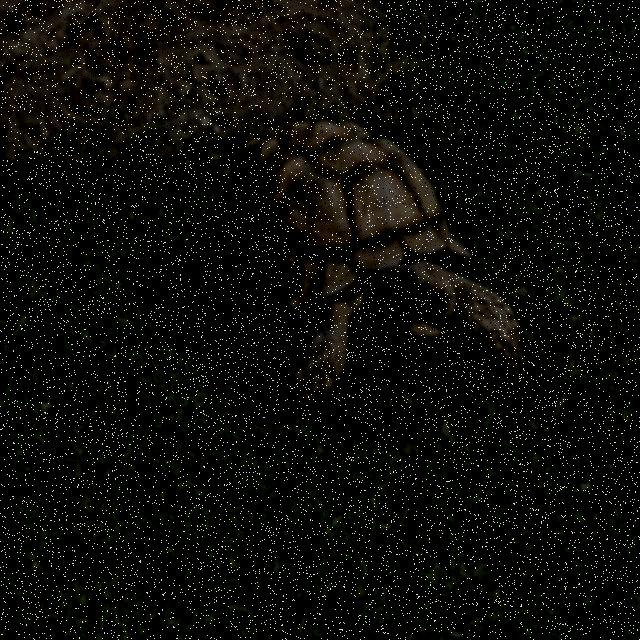tortoise: (182, 99, 526, 428)
